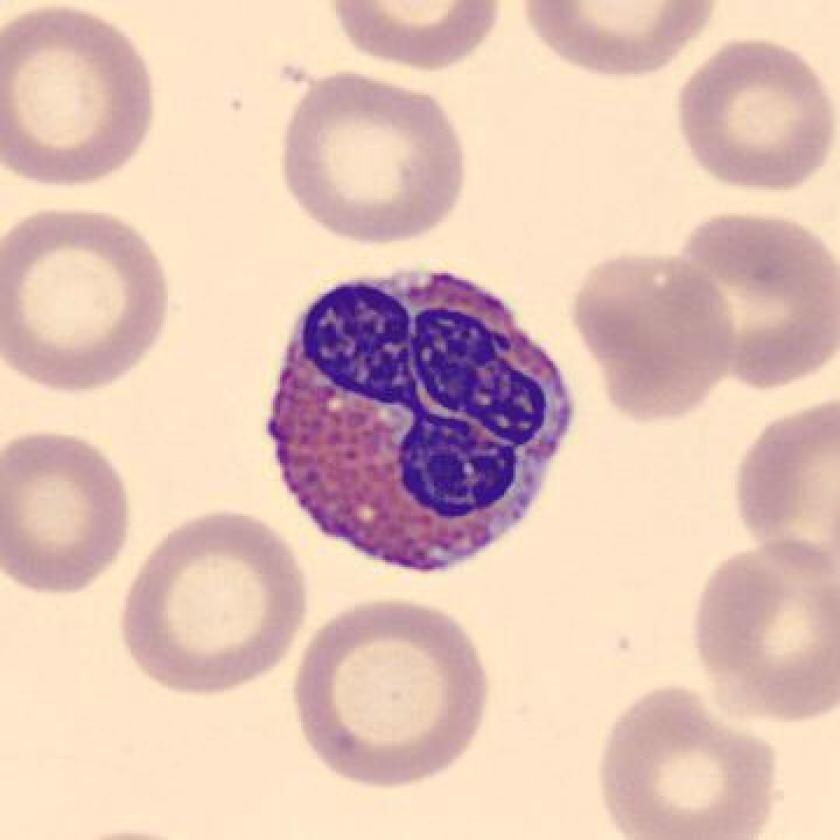eosinophil: (258, 256, 584, 589)
